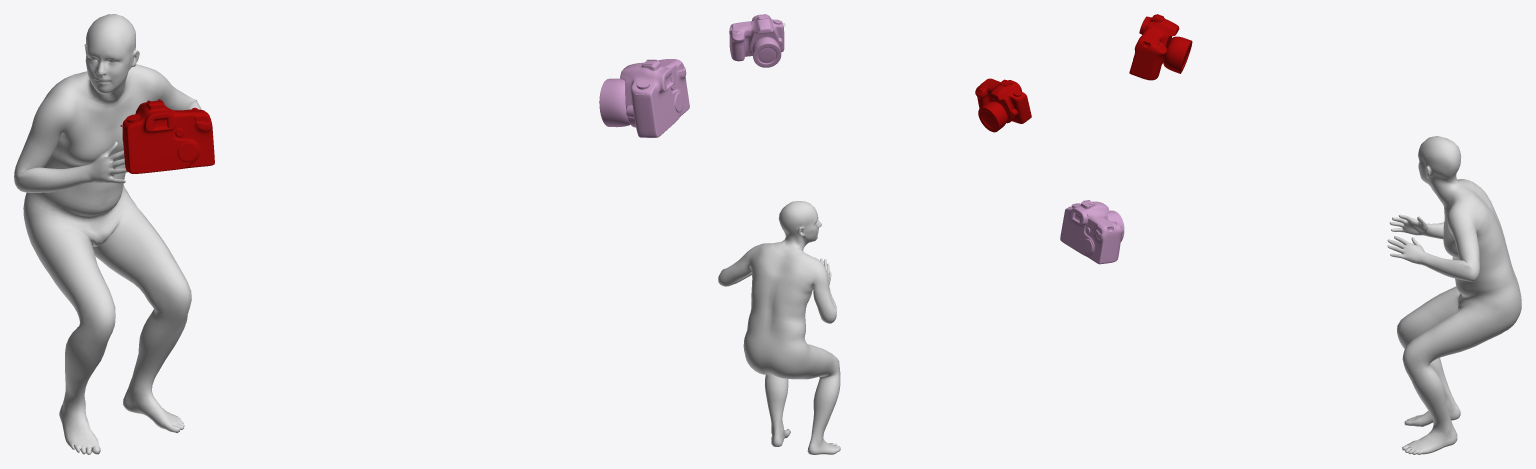
Rendered from wallstreet.glb.
The picture shows the model from 3 angles, left to right: view 1: azimuth 30°, elevation 25°; view 2: azimuth 150°, elevation 25°; view 3: azimuth 270°, elevation 25°; orthographic projection. The views are drawn at different scales.
Parts seen in each view (by area): view 1: world, 10124_SLR_Camera_SG_V1_Iteration2.obj, 10124_SLR_Camera_SG_V1_Iteration2.obj:MPKAYLXE8GYP; view 2: world, 10124_SLR_Camera_SG_V1_Iteration2.obj:MPKAYLXE8GYP, 10124_SLR_Camera_SG_V1_Iteration2.obj; view 3: world, 10124_SLR_Camera_SG_V1_Iteration2.obj:MPKAYLXE8GYP, 10124_SLR_Camera_SG_V1_Iteration2.obj.
Boxes of the visible parts, x1=… form: world: x1=14, y1=14, x2=201, y2=454; 10124_SLR_Camera_SG_V1_Iteration2.obj: x1=120, y1=99, x2=214, y2=173; 10124_SLR_Camera_SG_V1_Iteration2.obj:MPKAYLXE8GYP: x1=599, y1=59, x2=689, y2=137; world: x1=718, y1=201, x2=840, y2=454; 10124_SLR_Camera_SG_V1_Iteration2.obj:MPKAYLXE8GYP: x1=729, y1=14, x2=785, y2=67; 10124_SLR_Camera_SG_V1_Iteration2.obj: x1=975, y1=78, x2=1031, y2=132; world: x1=1387, y1=136, x2=1521, y2=454; 10124_SLR_Camera_SG_V1_Iteration2.obj:MPKAYLXE8GYP: x1=1060, y1=200, x2=1124, y2=264; 10124_SLR_Camera_SG_V1_Iteration2.obj: x1=1129, y1=14, x2=1192, y2=80.
Size of the model in its own units: 1.96 by 1.79 by 2.03.
